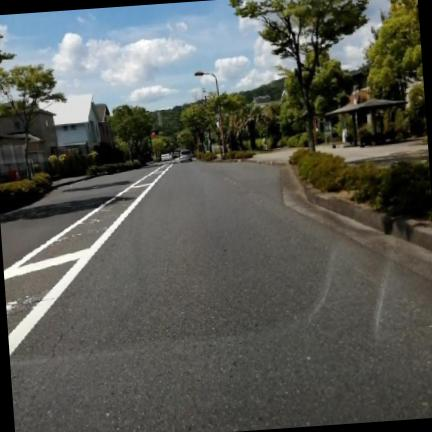Road: (0, 163, 431, 431)
